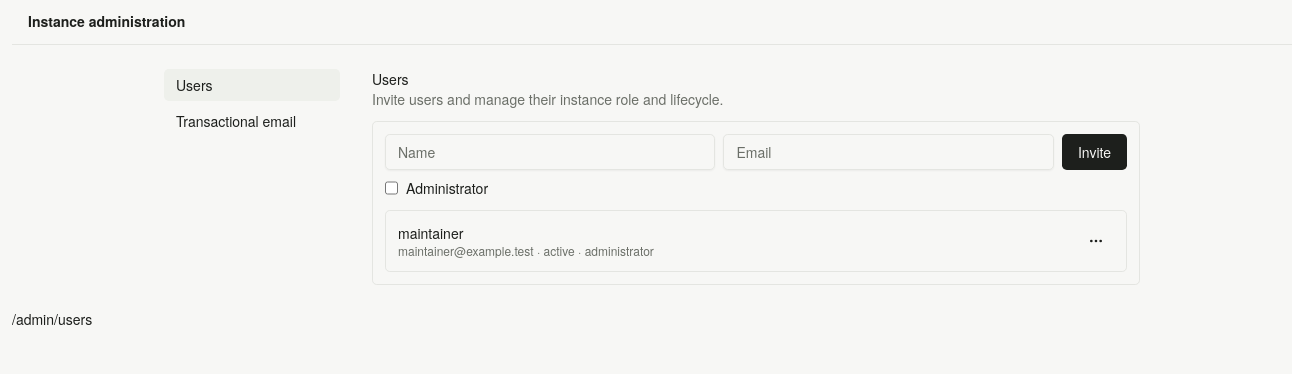
Test: says why the last administrator cannot be demoted
Click the button named "Actions for maintainer". click: (1096, 241)
box: [1078,225,1114,257]
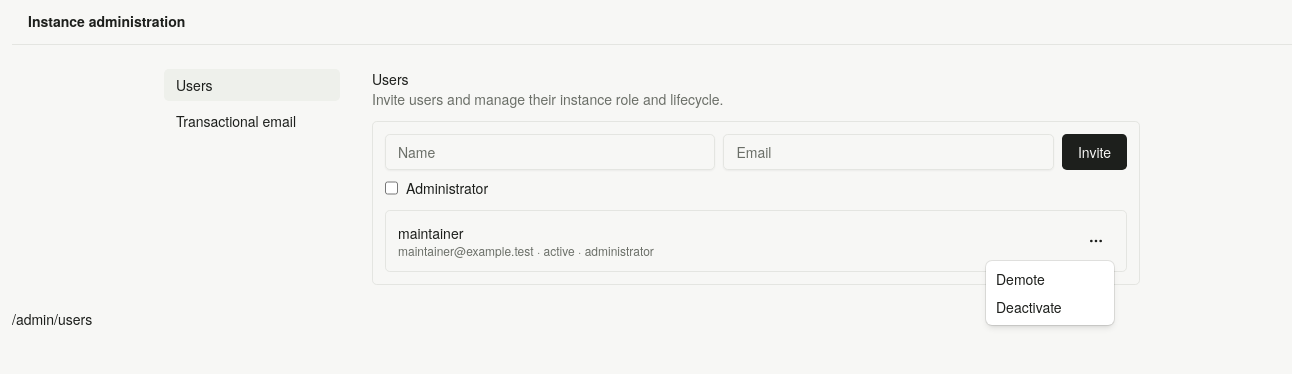
Click the menu item "Demote". click: (1020, 279)
box: [996,269,1045,289]
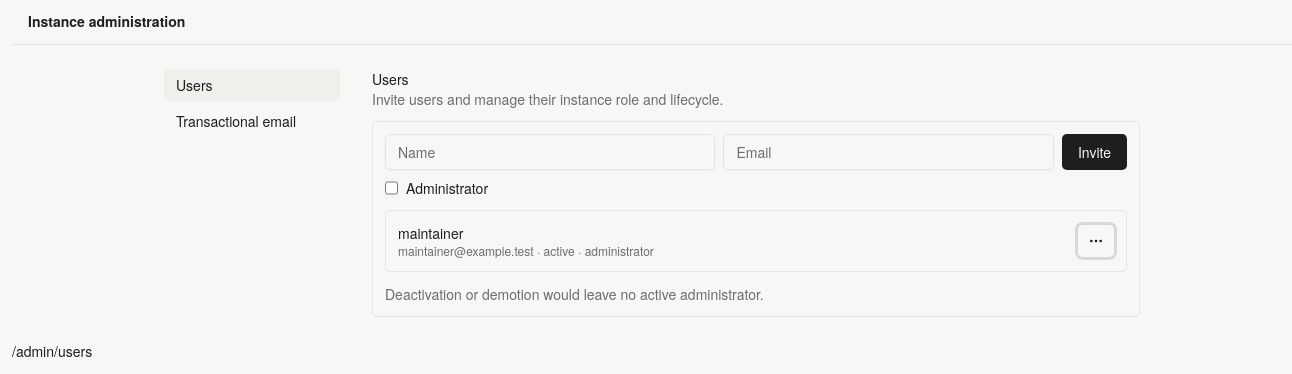
Expected: the message reads "Deactivation or demotion would leave no active administrator.", [385,284,764,304]
